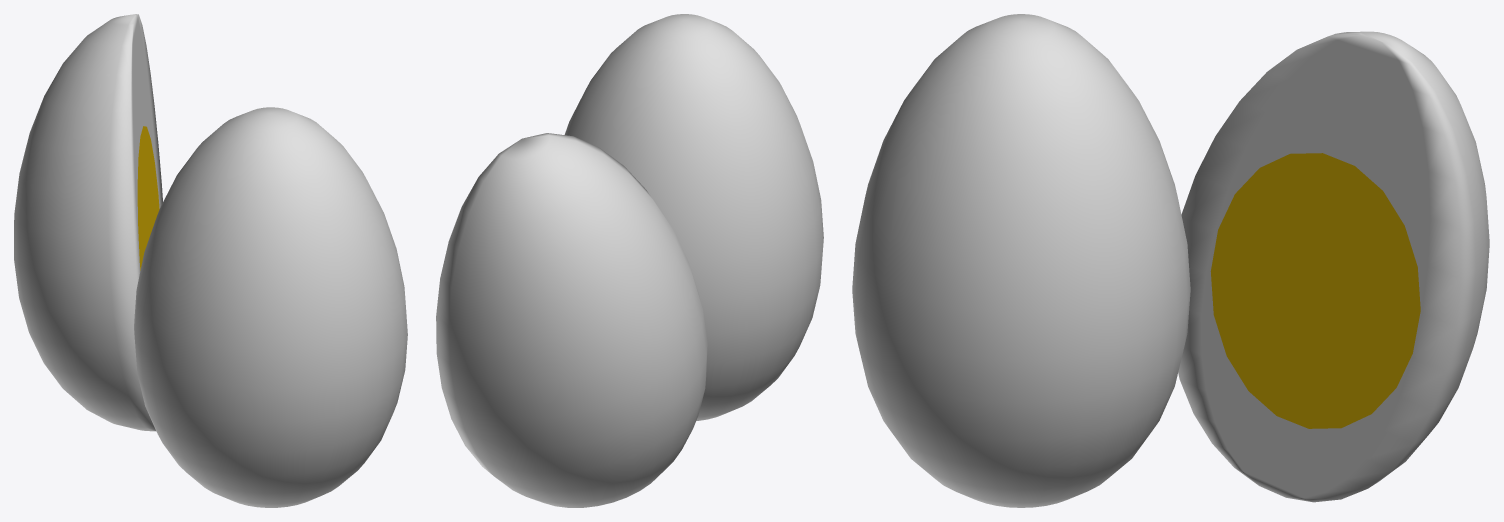
The model's file is eggs.gltf.
3 renders of one model, left to right at view 1: azimuth 30°, elevation 25°; view 2: azimuth 150°, elevation 25°; view 3: azimuth 270°, elevation 25°, orthographic. The views are drawn at different scales.
Visible parts, largest first — view 1: Sphere; view 2: Sphere; view 3: Sphere.
Part boxes in pixels (bbox=[...]): Sphere: bbox=[14, 14, 407, 507]; Sphere: bbox=[436, 14, 823, 507]; Sphere: bbox=[852, 14, 1489, 507].
Bounding box in the file's own units: 2.01 × 3.1 × 3.77.
